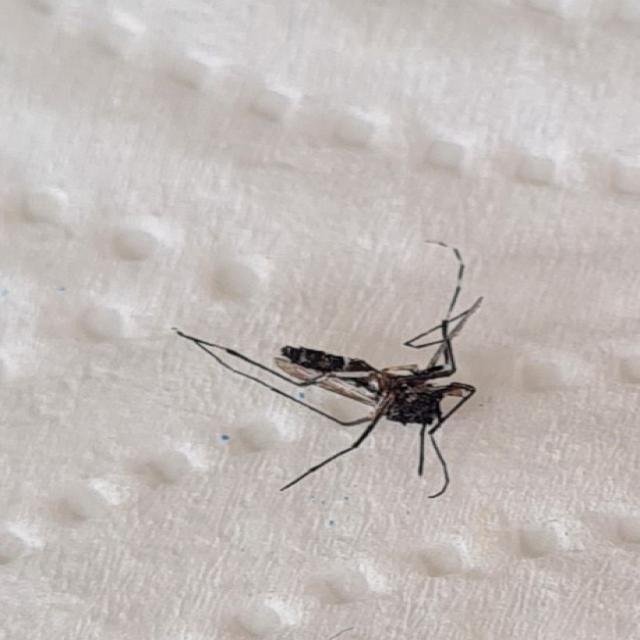albopictus: (170, 238, 496, 502)
